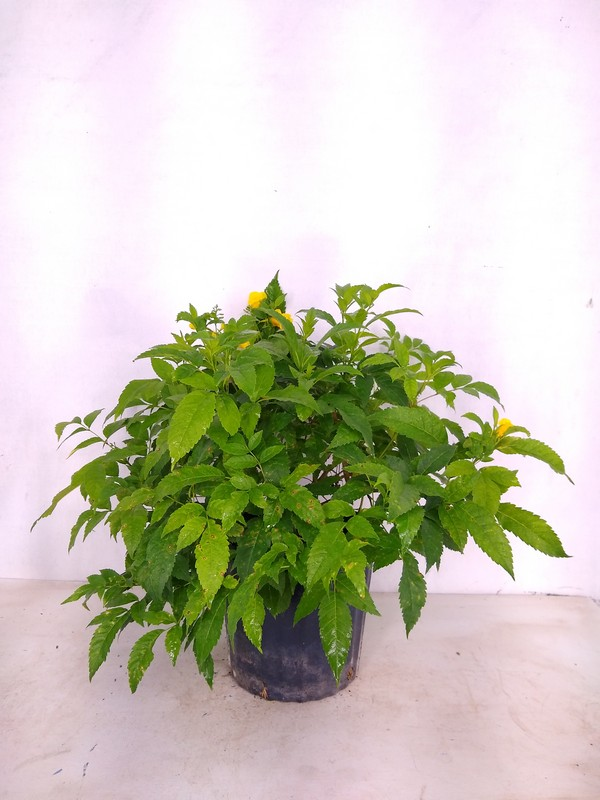plant: (31, 271, 573, 690)
pot: (223, 571, 372, 705)
